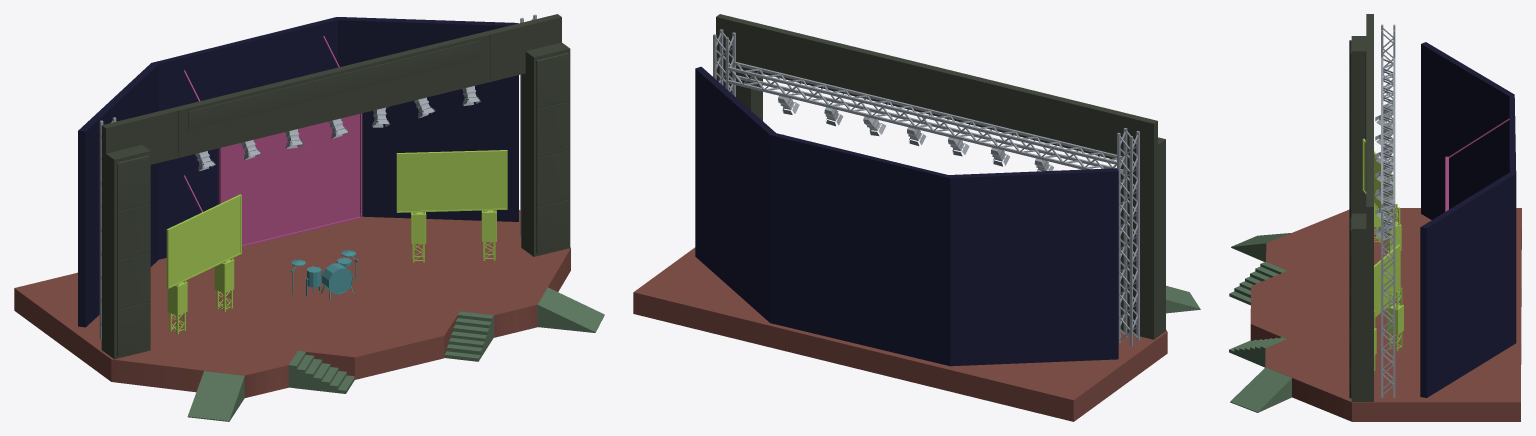
Rendered from stage.fbx.
3 views of the same model, side by side, from view 1: azimuth 30°, elevation 25°; view 2: azimuth 150°, elevation 25°; view 3: azimuth 270°, elevation 25° (orthographic). The views are drawn at different scales.
Parts seen in each view (by area): view 1: piso, columnas, fondo, pantalla-central, pantalla2, pantalla1, luminarias, rampa1, rampa2, escalera1, escalera2, bateria; view 2: fondo, columnas, piso, luminarias, rampa1; view 3: fondo, piso, columnas, luminarias, pantalla2, rampa2, pantalla1, escalera1, escalera2, rampa1, pantalla-central.
Boxes of the visible parts, box(x1,y1,x2,y2) form: piso: box(14, 210, 570, 397); columnas: box(101, 14, 570, 359); fondo: box(78, 17, 518, 327); pantalla-central: box(184, 36, 362, 247); pantalla2: box(396, 150, 507, 262); pantalla1: box(166, 194, 241, 334); luminarias: box(99, 14, 536, 339); rampa1: box(187, 371, 244, 421); rampa2: box(537, 287, 604, 332); escalera1: box(288, 351, 354, 393); escalera2: box(444, 311, 493, 361); bateria: box(291, 250, 358, 299); fondo: box(695, 66, 1118, 366); columnas: box(716, 14, 1165, 339); piso: box(633, 247, 1167, 421); luminarias: box(713, 29, 1139, 345); rampa1: box(1166, 285, 1200, 313); fondo: box(1420, 42, 1516, 397); piso: box(1250, 208, 1521, 421); columnas: box(1349, 14, 1373, 401); luminarias: box(1375, 24, 1395, 397); pantalla2: box(1374, 244, 1403, 371); rampa2: box(1230, 367, 1291, 412); pantalla1: box(1362, 138, 1401, 253); escalera1: box(1229, 261, 1286, 305); escalera2: box(1229, 337, 1286, 367); rampa1: box(1231, 233, 1290, 261); pantalla-central: box(1445, 118, 1509, 211).
Size of the model in its own units: 6751 by 3474 by 4299.
